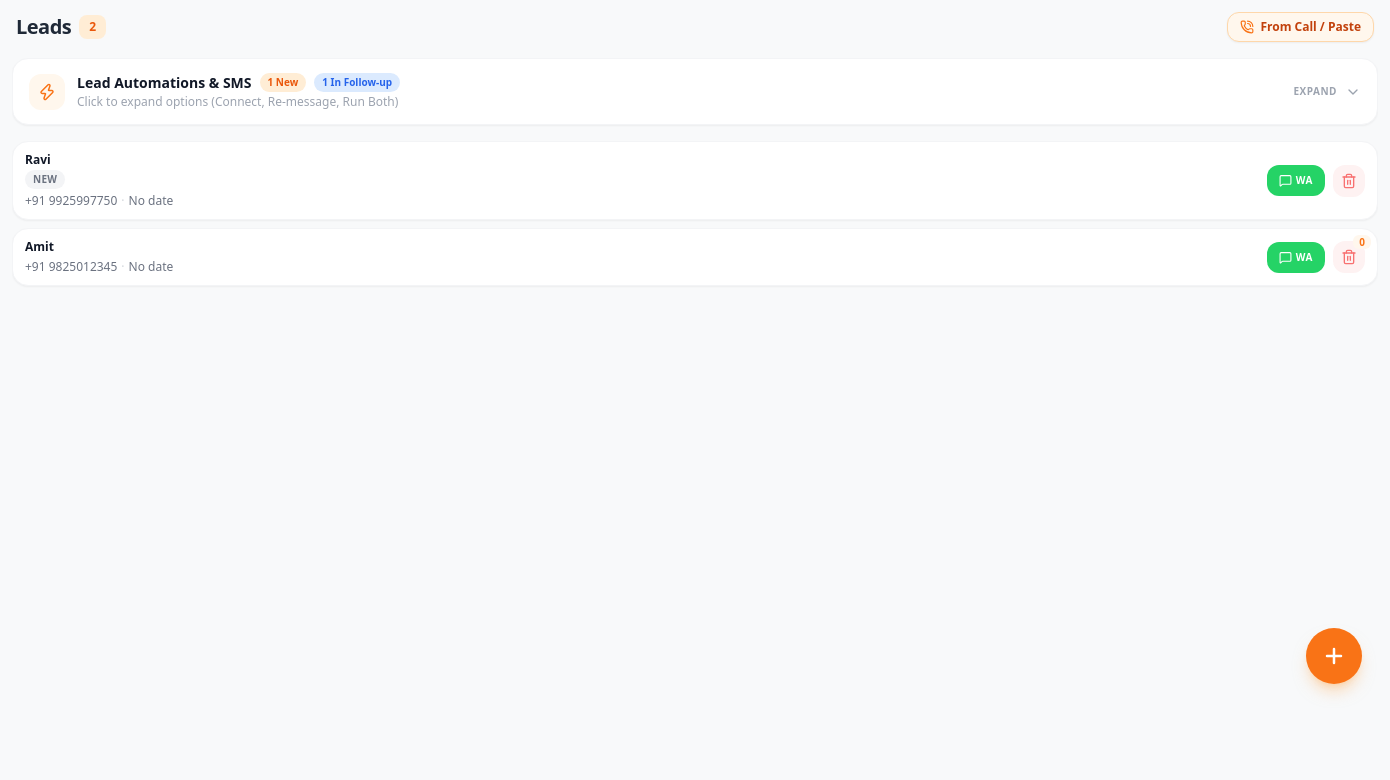
Test: LeadsDashboard Component › renders without ReferenceError and has click-to-expand panel
Expected: the heading "Leads" is shown, left=16, top=13, right=71, bottom=41
Expected: the button "connect 1" is not shown
Click to expand
Click the button with aria-label "toggle lead automations": (47, 92) left=13, top=59, right=1377, bottom=124
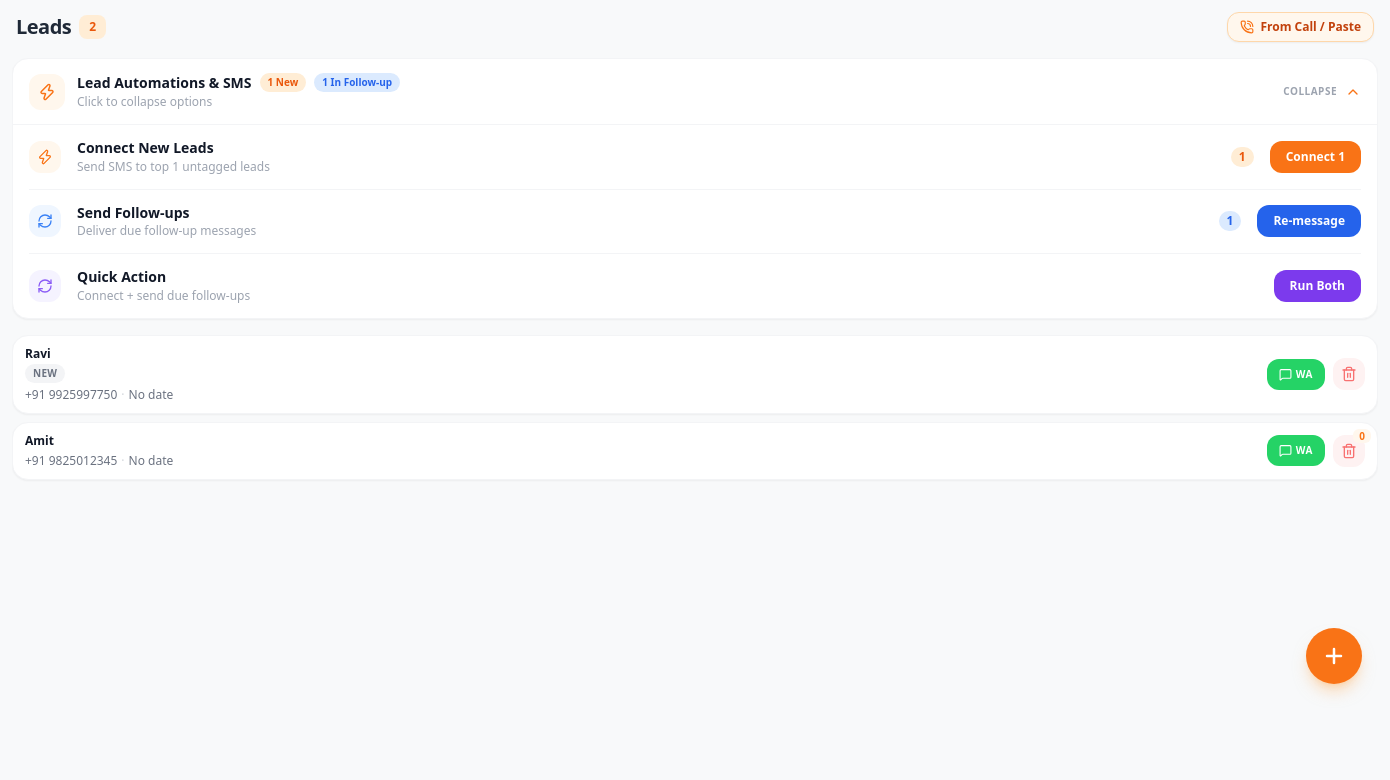
Expected: the button "Re-message" is shown, left=1257, top=205, right=1361, bottom=237
Now the button with aria-label "toggle lead automations" is expanded
Now the button "Connect 1" is shown, box left=1270, top=141, right=1361, bottom=173
Click to collapse
Click the button with aria-label "toggle lead automations": (47, 92) left=13, top=59, right=1377, bottom=124
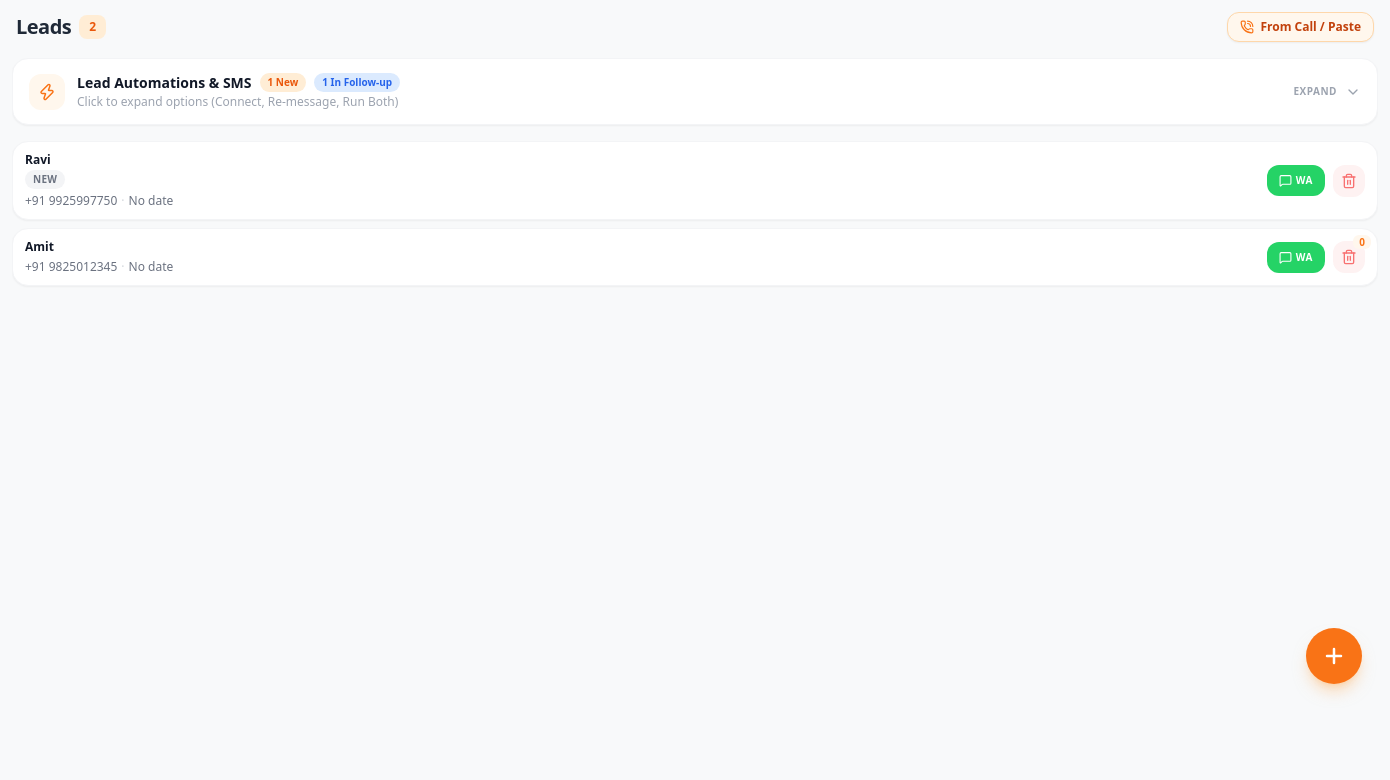
Now the button with aria-label "toggle lead automations" is collapsed, box left=13, top=59, right=1377, bottom=124
Now the button "Connect 1" is gone
